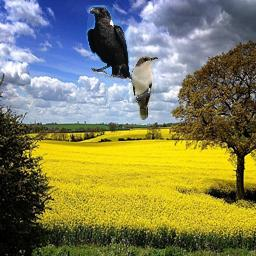Crow: (86, 5, 134, 81)
Cuckoo: (131, 56, 158, 121)
